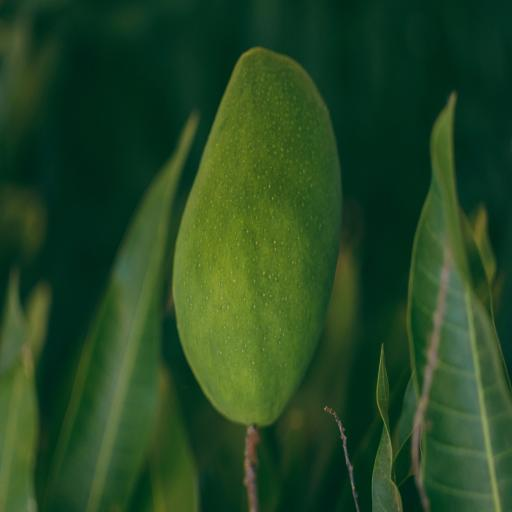Mango-Detection: (139, 19, 379, 453)
